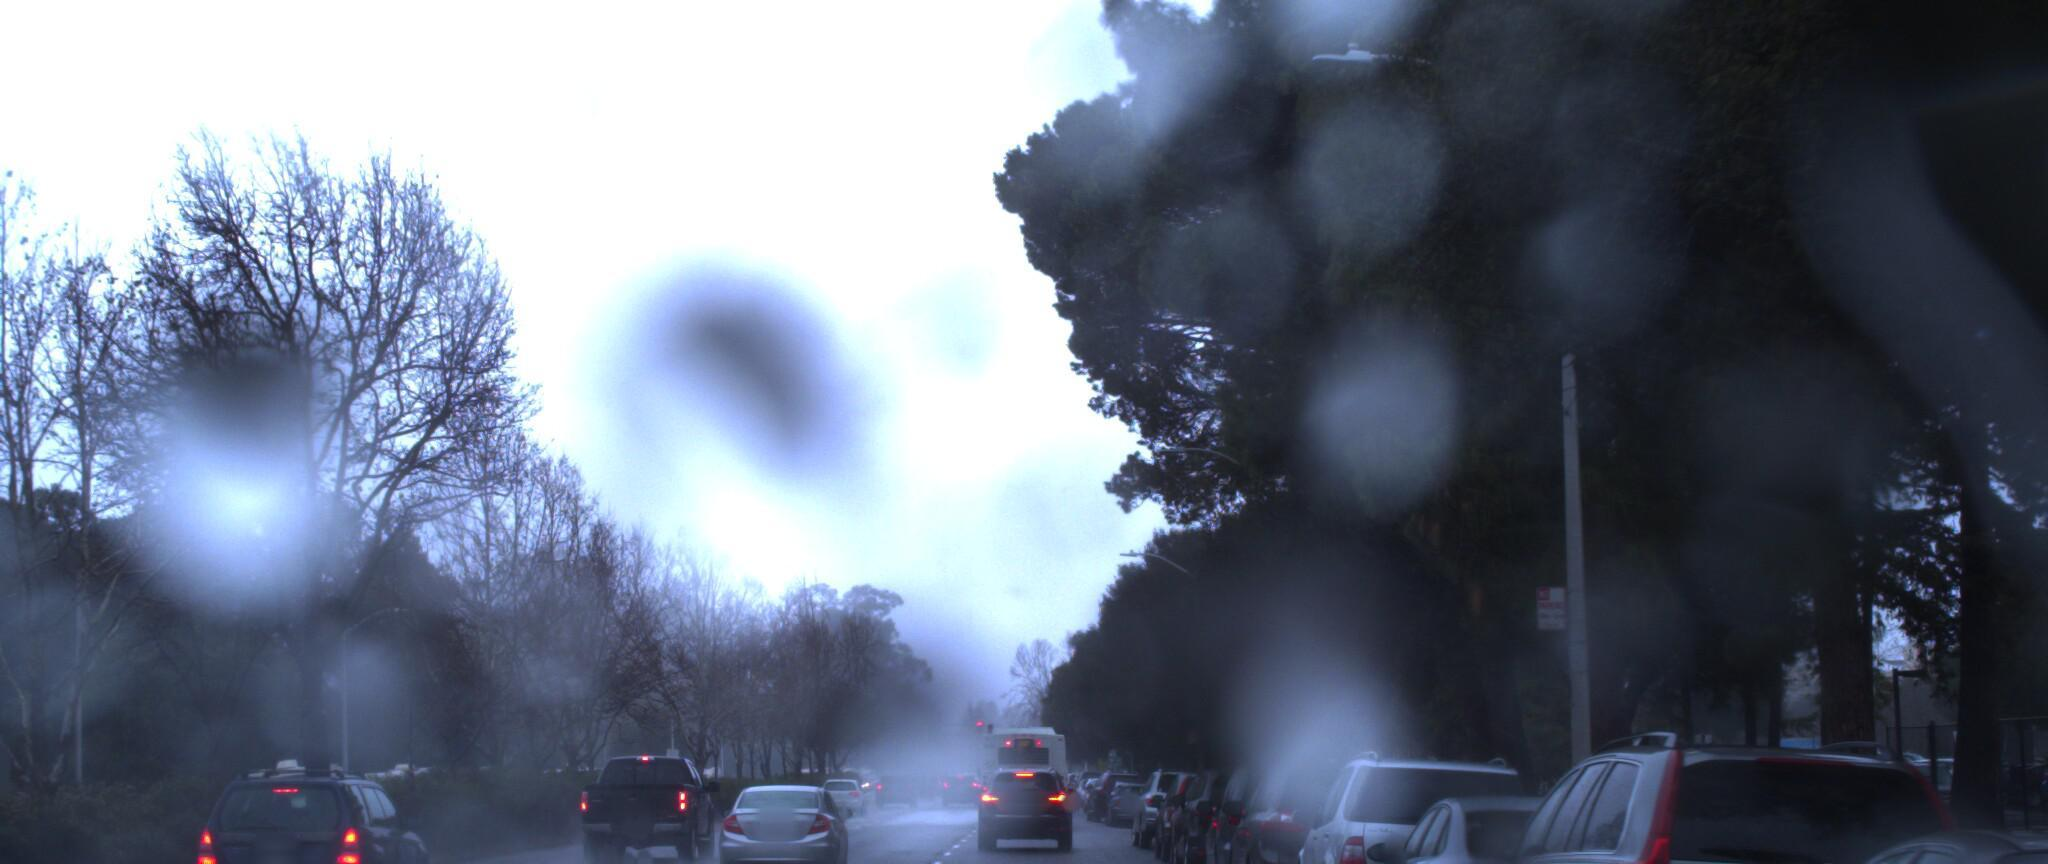car: (1416, 728, 2026, 864), (1263, 752, 1561, 864), (1351, 788, 1759, 864), (1204, 758, 1445, 864), (0, 760, 225, 864), (1616, 813, 2048, 864), (172, 779, 428, 864), (1178, 761, 1381, 864), (569, 773, 718, 864), (700, 780, 844, 864), (968, 760, 1080, 860)
other_vehicle: (0, 733, 7, 864)
